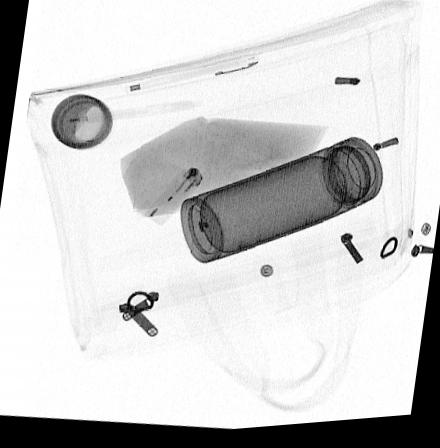Lighter: (143, 169, 205, 228)
